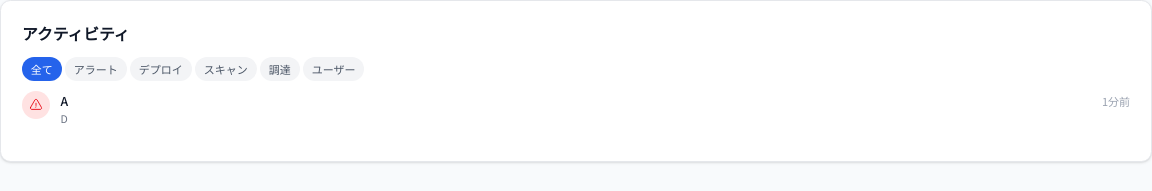
Test case: ActivityFeedWidget › shows empty message when no events match filter
The image size is (1152, 191).
Click the button "スキャン".
click(226, 69)  # box [195,57,256,80]
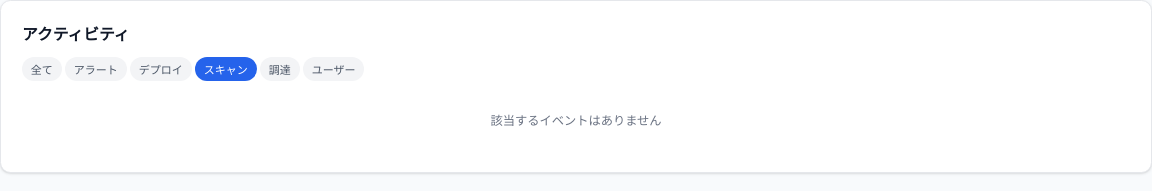
Check: the text "該当するイベントはありません" is shown, box [490,111,662,129]
